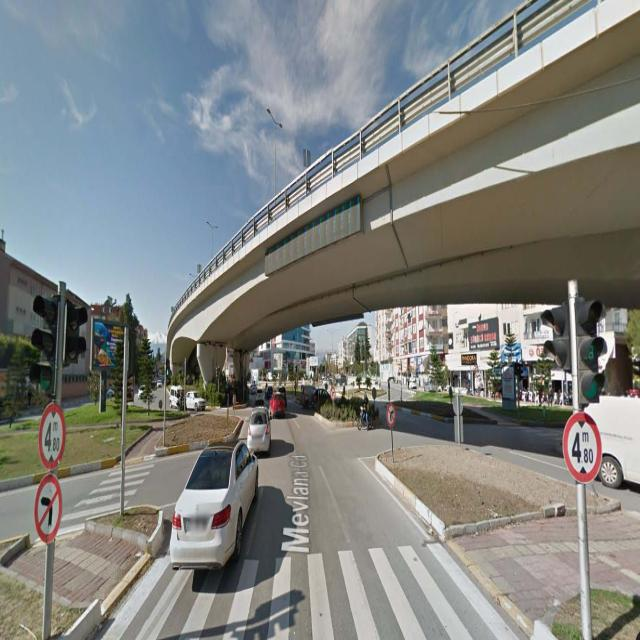sagadonulmez: (386, 402, 396, 425), (330, 388, 336, 400)
soladonulmez: (35, 478, 62, 542)
yesil: (575, 300, 601, 407)
